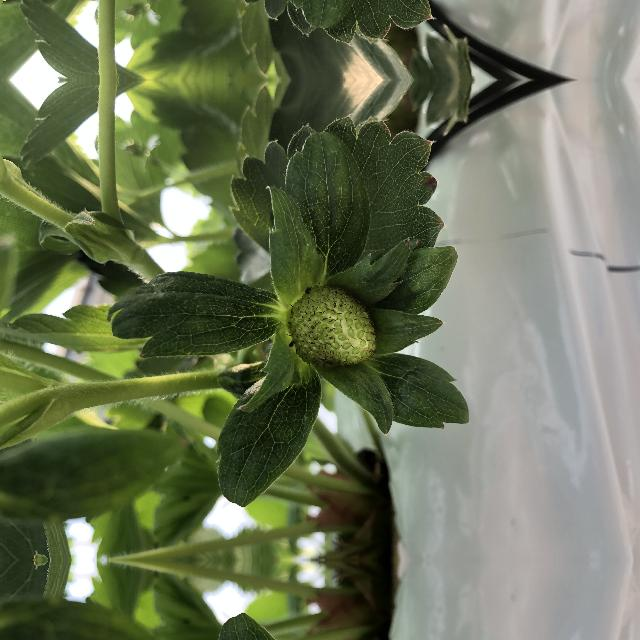Health_25: (280, 276, 386, 376)
